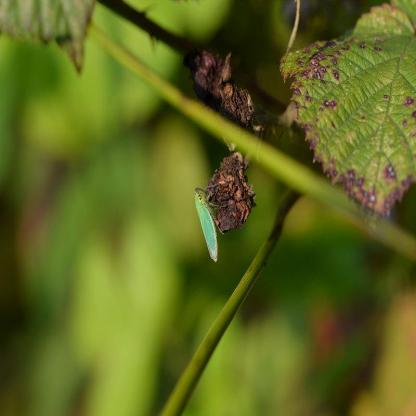Green-Leafhopper: (191, 185, 228, 268)
